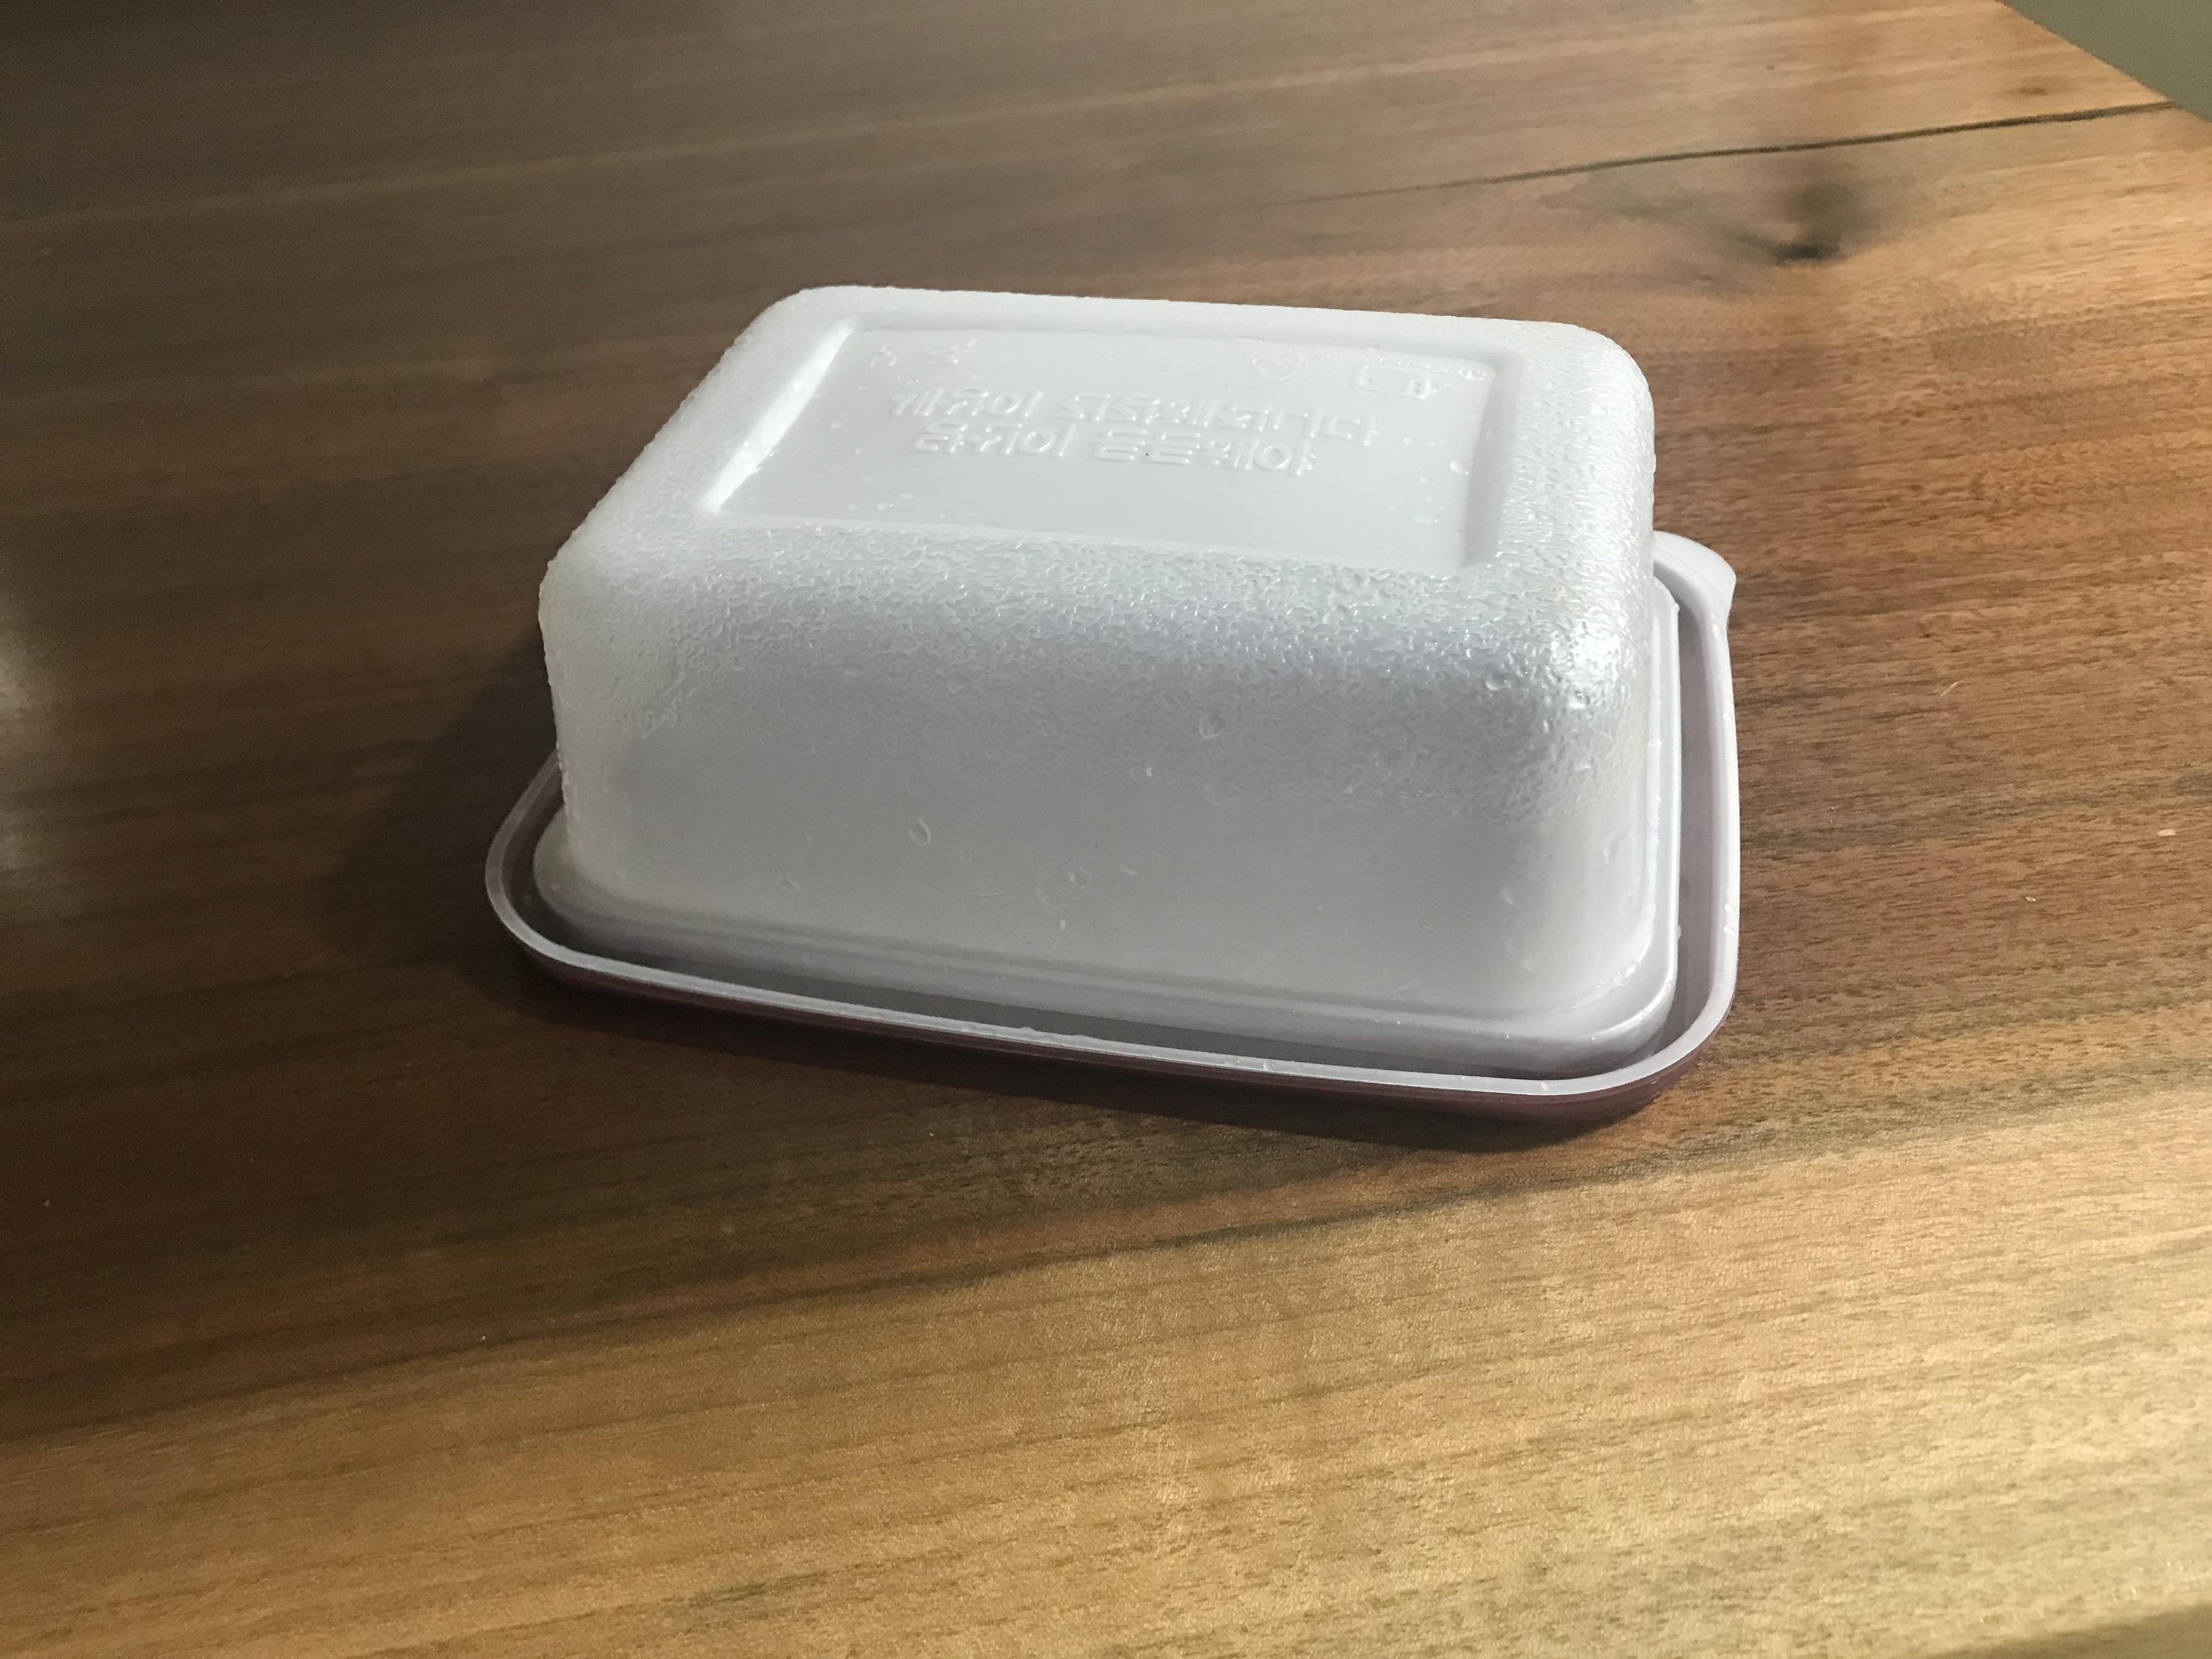bottle: (425, 176, 1864, 1133)
